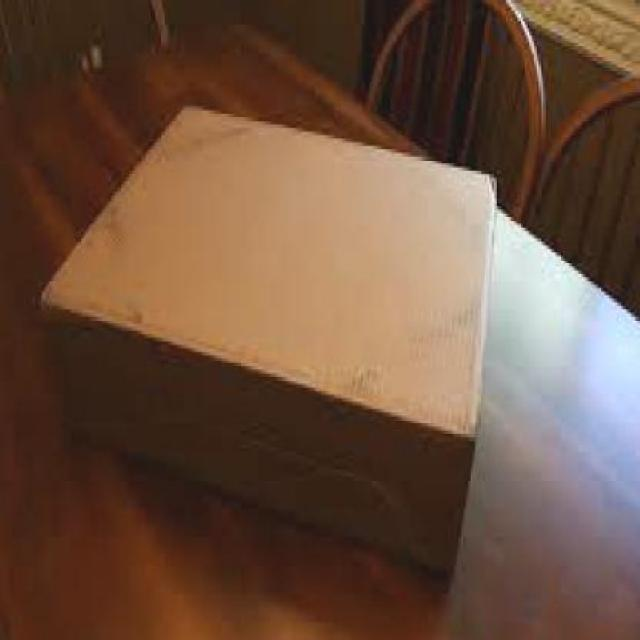box: (25, 96, 518, 590)
